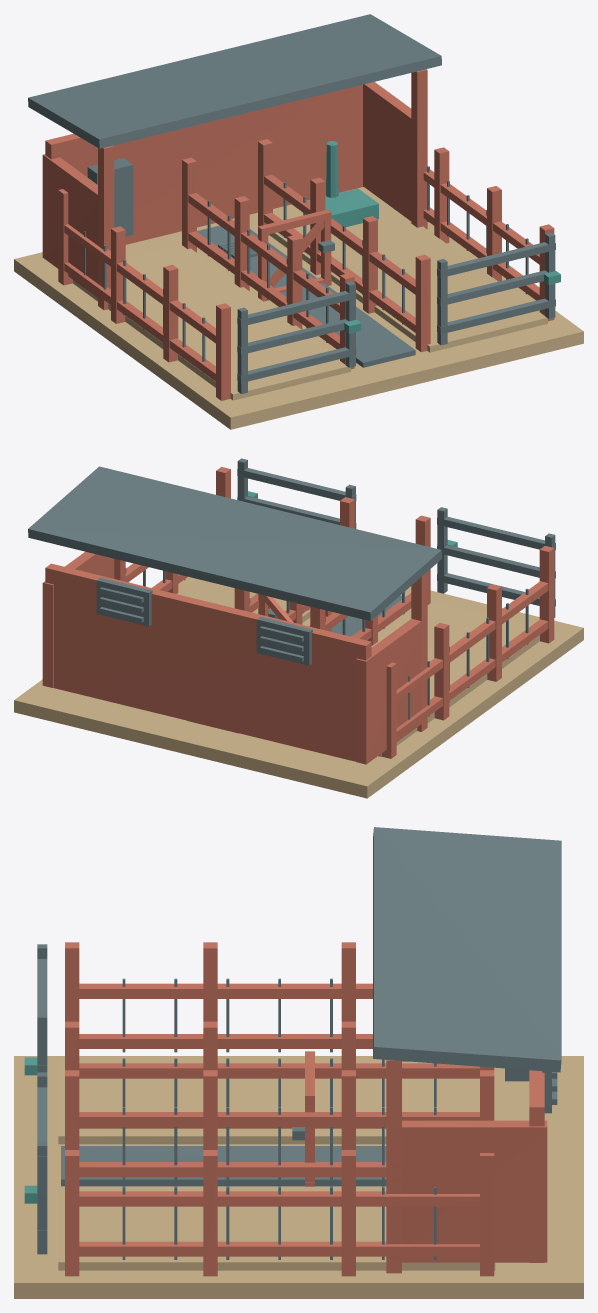
File: Breeding-Barn.glb
3 renders of one model, top to bottom at view 1: azimuth 30°, elevation 25°; view 2: azimuth 150°, elevation 25°; view 3: azimuth 270°, elevation 25°, orthographic. The views are drawn at different scales.
Visible parts, largest first — view 1: breeding-barn-static-breeding-barn-weathered-timber-mat, breeding-barn-static-breeding-barn-pale-concrete-mat, breeding-barn-static-breeding-barn-galvanized-mat, breeding-barn-static-breeding-barn-dark-iron-mat, breeding-barn-static-breeding-barn-blue-grey-fixture-mat; view 2: breeding-barn-static-breeding-barn-weathered-timber-mat, breeding-barn-static-breeding-barn-galvanized-mat, breeding-barn-static-breeding-barn-pale-concrete-mat, breeding-barn-static-breeding-barn-dark-iron-mat; view 3: breeding-barn-static-breeding-barn-weathered-timber-mat, breeding-barn-static-breeding-barn-pale-concrete-mat, breeding-barn-static-breeding-barn-galvanized-mat, breeding-barn-static-breeding-barn-dark-iron-mat.
Boxes of the visible parts, x1,y1,x2,y2 form: breeding-barn-static-breeding-barn-weathered-timber-mat: [42, 69, 554, 400]; breeding-barn-static-breeding-barn-pale-concrete-mat: [14, 187, 583, 429]; breeding-barn-static-breeding-barn-galvanized-mat: [28, 14, 441, 258]; breeding-barn-static-breeding-barn-dark-iron-mat: [84, 158, 555, 393]; breeding-barn-static-breeding-barn-blue-grey-fixture-mat: [308, 141, 560, 333]; breeding-barn-static-breeding-barn-weathered-timber-mat: [42, 467, 554, 764]; breeding-barn-static-breeding-barn-galvanized-mat: [28, 466, 441, 665]; breeding-barn-static-breeding-barn-pale-concrete-mat: [14, 576, 583, 798]; breeding-barn-static-breeding-barn-dark-iron-mat: [99, 458, 555, 733]; breeding-barn-static-breeding-barn-weathered-timber-mat: [65, 942, 547, 1276]; breeding-barn-static-breeding-barn-pale-concrete-mat: [14, 1056, 583, 1298]; breeding-barn-static-breeding-barn-galvanized-mat: [373, 827, 561, 1113]; breeding-barn-static-breeding-barn-dark-iron-mat: [37, 944, 557, 1259].
Size of the model in its own units: 4.85 by 2.48 by 5.15.
